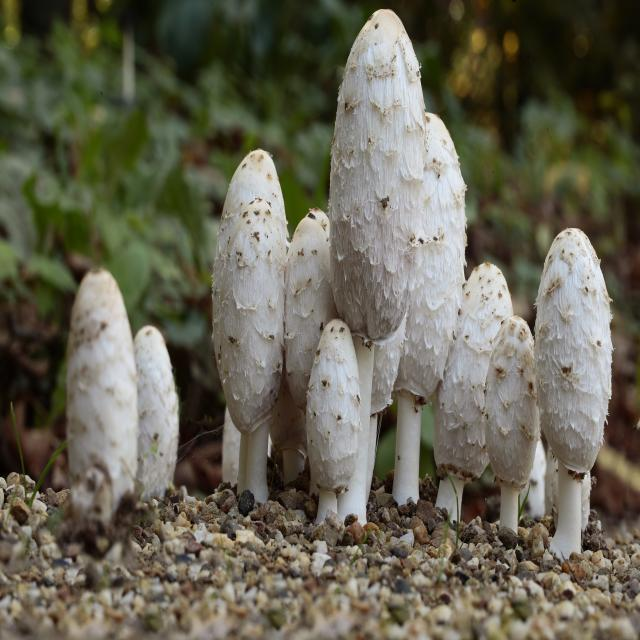Coprinus comatus: (332, 7, 420, 524), (389, 112, 466, 511), (210, 149, 285, 498), (533, 233, 612, 551), (438, 258, 511, 520), (64, 267, 138, 510), (282, 202, 329, 506), (484, 311, 537, 535), (307, 319, 361, 519), (126, 324, 179, 503)
